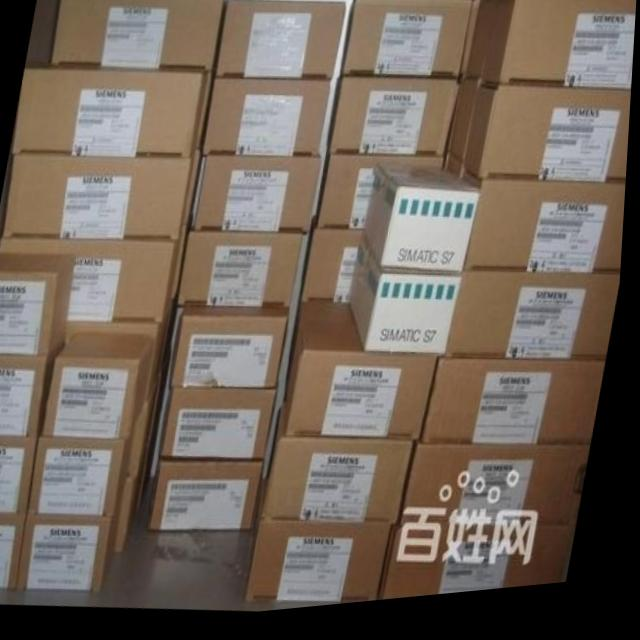box: (288, 309, 443, 447), (14, 70, 208, 160), (268, 415, 417, 532), (466, 91, 633, 191), (4, 157, 195, 243), (428, 367, 609, 457), (407, 452, 596, 536), (1, 239, 183, 326), (450, 282, 624, 371), (468, 190, 629, 284), (485, 0, 637, 97), (352, 239, 465, 364), (386, 535, 577, 608), (366, 169, 483, 282), (51, 0, 227, 75), (251, 526, 399, 610), (47, 333, 156, 440), (343, 4, 474, 89), (203, 80, 331, 165), (216, 3, 347, 86), (330, 85, 462, 165), (67, 311, 180, 401), (196, 161, 323, 240), (175, 308, 293, 392), (319, 160, 446, 236), (181, 236, 306, 313), (164, 392, 282, 467), (35, 439, 136, 522), (155, 464, 269, 537), (0, 256, 77, 357), (24, 518, 117, 597), (0, 344, 68, 438), (120, 431, 164, 555), (133, 366, 174, 482), (304, 237, 366, 309), (0, 436, 42, 516), (465, 6, 500, 86), (450, 88, 483, 168), (0, 516, 30, 592)
